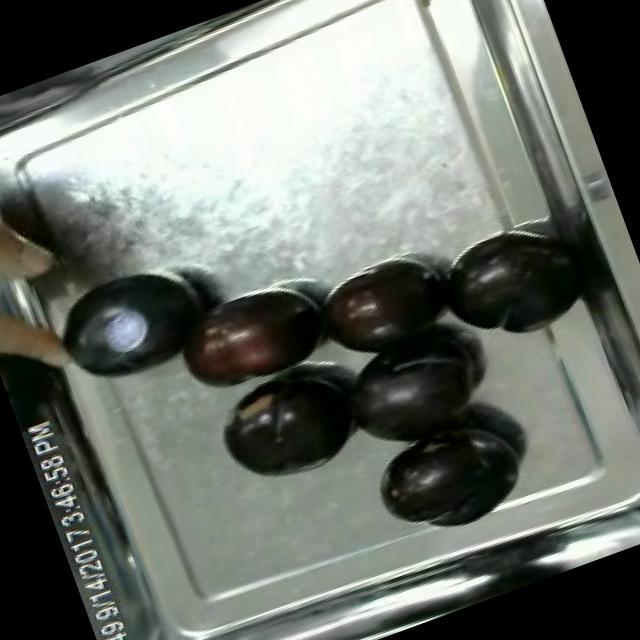Fruit: (42, 242, 227, 401), (160, 268, 345, 415), (363, 404, 540, 553), (201, 350, 373, 501), (422, 214, 586, 362), (301, 247, 464, 376)
